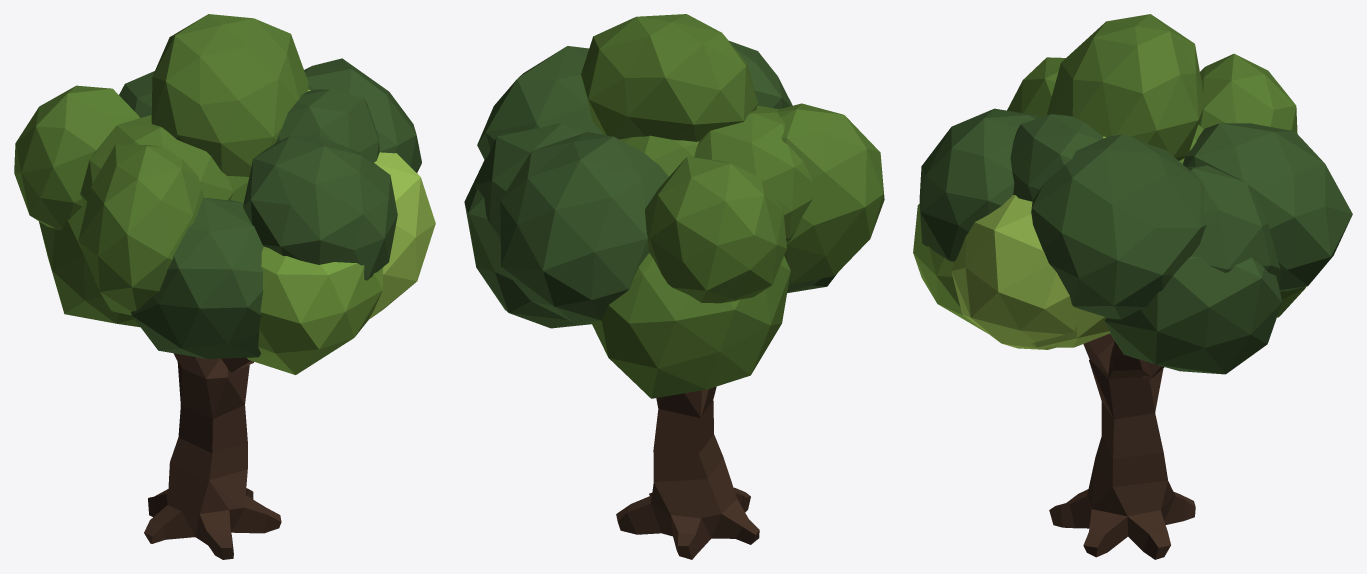
Rendered from SM_Tree_Oak_Green_04.glb.
3 views of the same model, side by side, from view 1: azimuth 30°, elevation 25°; view 2: azimuth 150°, elevation 25°; view 3: azimuth 270°, elevation 25° (orthographic). The views are drawn at different scales.
Parts seen in each view (by area): view 1: SM_Tree_Oak_Green_04; view 2: SM_Tree_Oak_Green_04; view 3: SM_Tree_Oak_Green_04.
Part boxes in pixels (x1,y1,x2,y2): SM_Tree_Oak_Green_04: (14, 14, 435, 559); SM_Tree_Oak_Green_04: (464, 14, 884, 559); SM_Tree_Oak_Green_04: (913, 14, 1352, 559).
Size of the model in its own units: 3.25 by 4.41 by 3.43.
